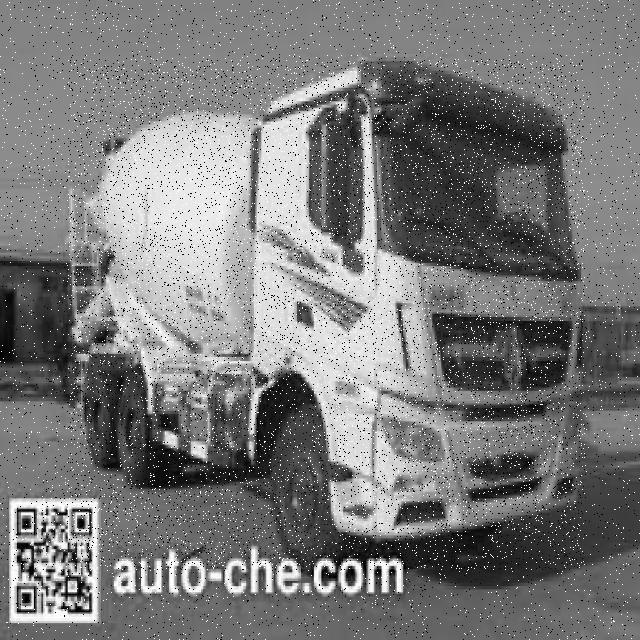Concrete Mixer: (68, 59, 585, 570)
